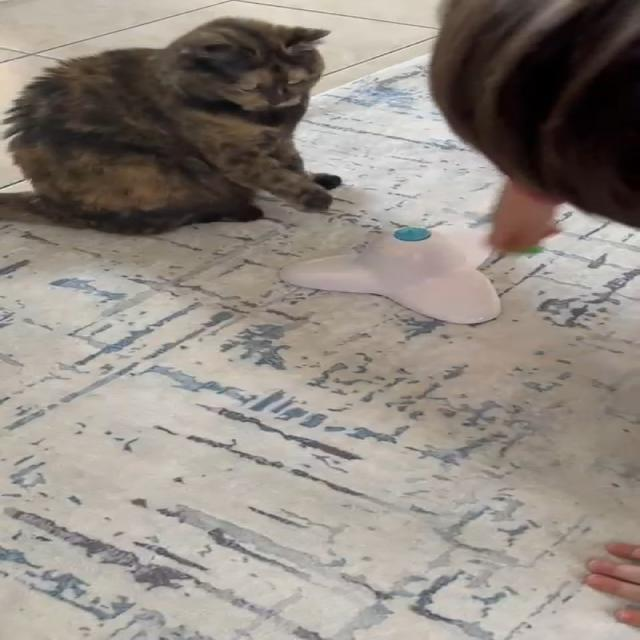authorized: (0, 15, 341, 235)
